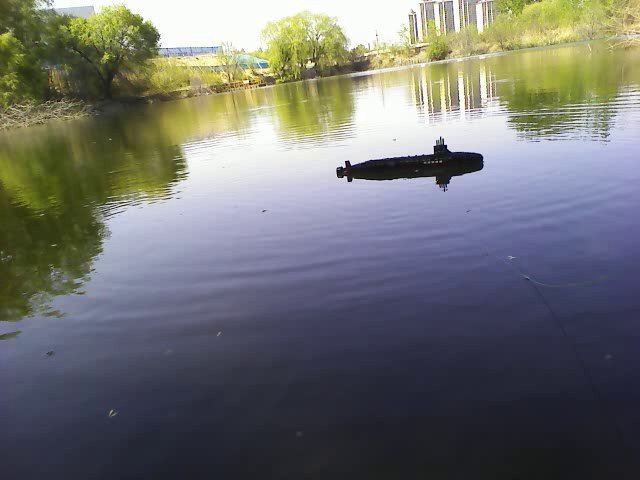submarine: (332, 142, 487, 182)
